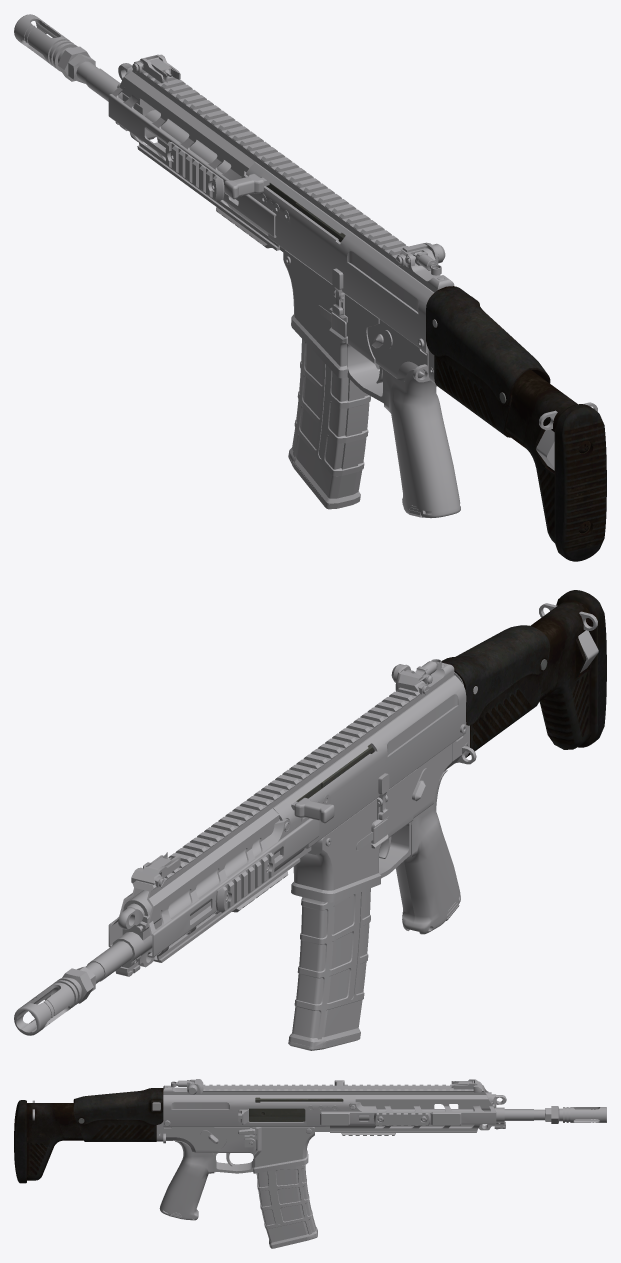
The model's file is Howa Type-20.fbx.
The picture shows the model from 3 angles, top to bottom: view 1: azimuth 30°, elevation 25°; view 2: azimuth 150°, elevation 25°; view 3: azimuth 270°, elevation 25°; orthographic projection. The views are drawn at different scales.
Visible parts, largest first — view 1: Body, Stock2, Handguard.001, Stock1, MagGlass, Grip.001, BarrelAssembly, RailLeft, ChamberMechanism, StockAttachment; view 2: Body, Handguard.001, MagGlass, Stock2, Stock1, BarrelAssembly, Grip.001, RailLeft, ChamberMechanism, StockAttachment, FrontSightPost; view 3: Body, Handguard.001, Stock1, MagGlass, Stock2, Grip.001, BarrelAssembly, ChamberMechanism, RailsRight, FrontSightPost.
Boxes of the visible parts, x1,y1,x2,y2 form: Body: (246,147,454,403); Stock2: (505,370,606,561); Handguard.001: (108,69,279,250); Stock1: (426,286,550,437); MagGlass: (288,339,370,509); Grip.001: (384,369,460,518); BarrelAssembly: (14,14,231,173); RailLeft: (165,141,224,201); ChamberMechanism: (224,173,345,242); StockAttachment: (536,402,597,470); Body: (253,662,477,902); Handguard.001: (108,795,319,962); MagGlass: (288,888,370,1050); Stock2: (530,590,606,749); Stock1: (441,625,550,757); BarrelAssembly: (14,838,282,1035); Grip.001: (396,770,460,934); RailLeft: (215,852,274,912); ChamberMechanism: (291,744,374,823); StockAttachment: (539,603,598,672); FrontSightPost: (131,855,180,887); Body: (152,1079,355,1173); Handguard.001: (321,1084,496,1132); Stock1: (73,1088,163,1141); MagGlass: (256,1164,317,1248); Stock2: (14,1100,83,1183); Grip.001: (159,1141,215,1220); BarrelAssembly: (359,1092,606,1130); ChamberMechanism: (249,1080,344,1121); RailsRight: (373,1112,461,1125); FrontSightPost: (453,1079,481,1092).
Bounding box in the file's own units: 33.98 × 118 × 383.
Materials: 9 (3 with a texture image).
